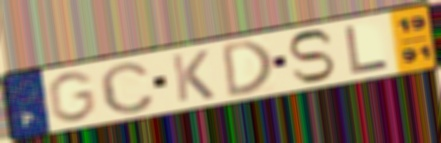C: (97, 59, 158, 116)
D: (220, 37, 275, 100)
G: (44, 70, 98, 124)
K: (168, 48, 218, 104)
L: (342, 23, 392, 75)
S: (285, 28, 337, 85)
